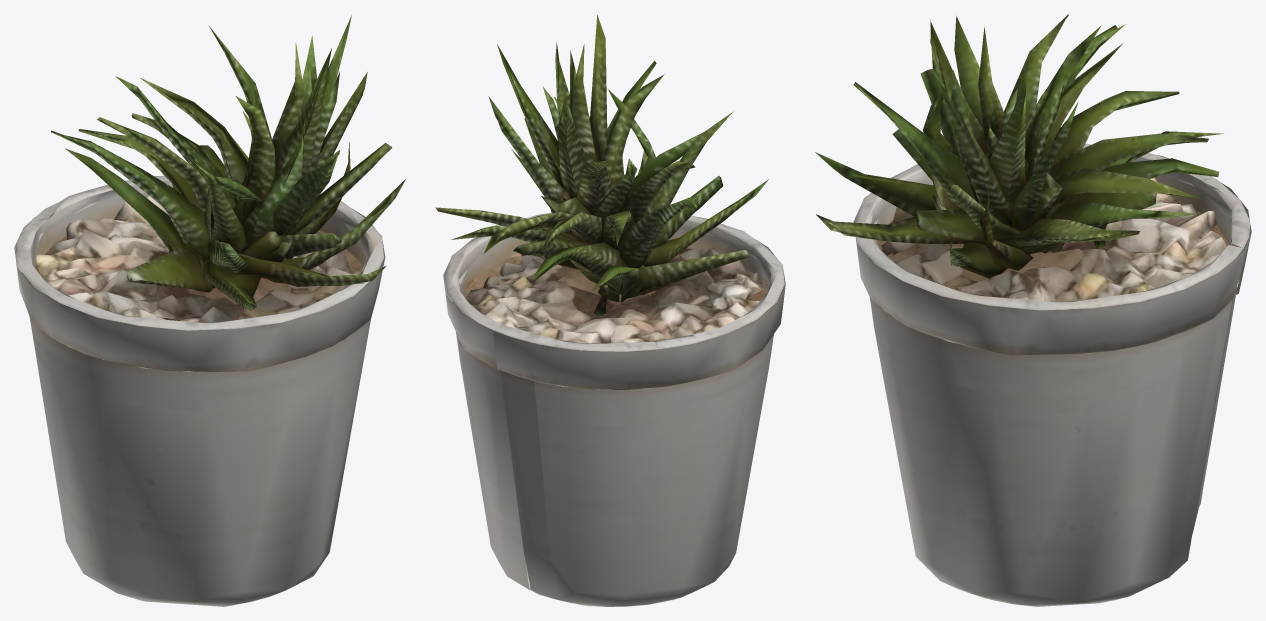
The model's file is potted_plant_04.glb.
3 views of the same model, side by side, from view 1: azimuth 30°, elevation 25°; view 2: azimuth 150°, elevation 25°; view 3: azimuth 270°, elevation 25° (orthographic). The views are drawn at different scales.
Visible parts, largest first — view 1: potted_plant_04_ground; view 2: potted_plant_04_ground; view 3: potted_plant_04_ground.
Part boxes in pixels (left/top/right/bottom): potted_plant_04_ground: left=14, top=15, right=405, bottom=606; potted_plant_04_ground: left=435, top=15, right=785, bottom=606; potted_plant_04_ground: left=815, top=14, right=1251, bottom=606.
Size of the model in its own units: 0.168 by 0.2676 by 0.1846.
Materials: 1 (1 with a texture image).
